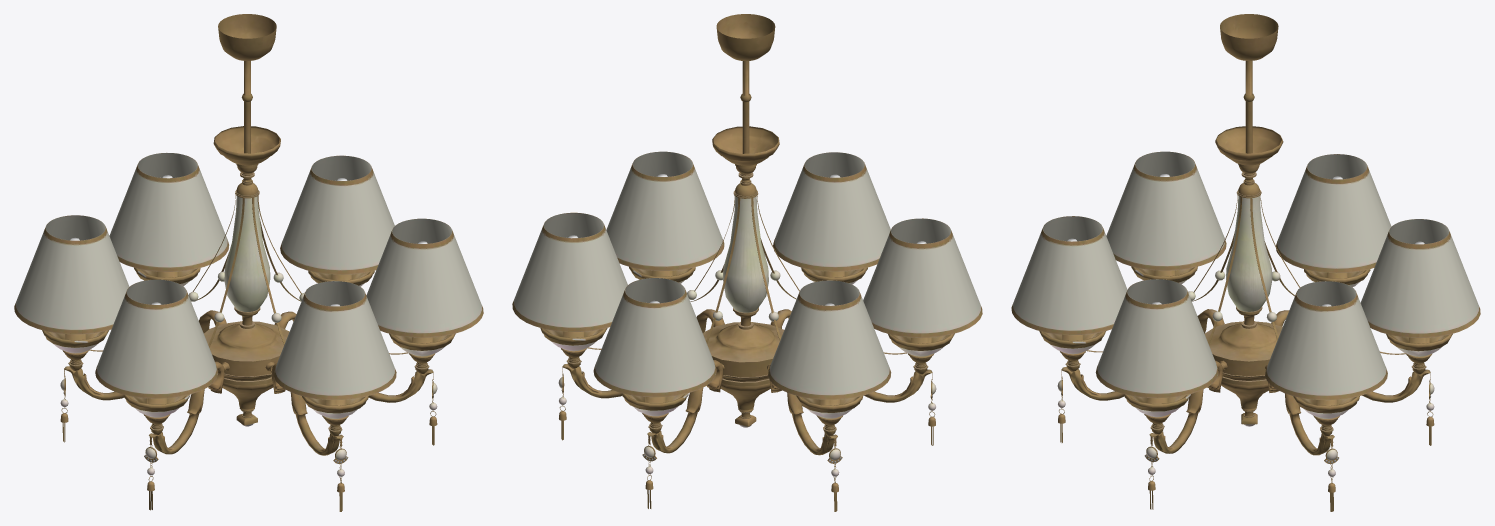
The model's file is light-u8m0Z4fO.glb.
3 views of the same model, side by side, from view 1: azimuth 30°, elevation 25°; view 2: azimuth 150°, elevation 25°; view 3: azimuth 270°, elevation 25° (orthographic).
Visible parts, largest first — view 1: StudyShelf_2400; view 2: StudyShelf_2400; view 3: StudyShelf_2400.
Boxes of the visible parts, x1,y1,x2,y2 form: StudyShelf_2400: [14, 14, 483, 511]; StudyShelf_2400: [512, 14, 982, 511]; StudyShelf_2400: [1011, 14, 1480, 511].
Bounding box in the file's own units: 102 × 110 × 112.
Materials: 2 (1 with a texture image).
